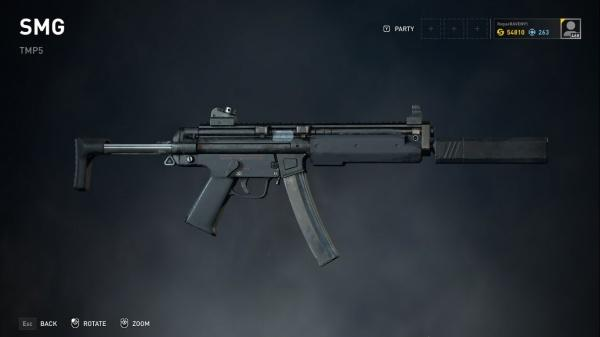rifle: (74, 107, 550, 270)
